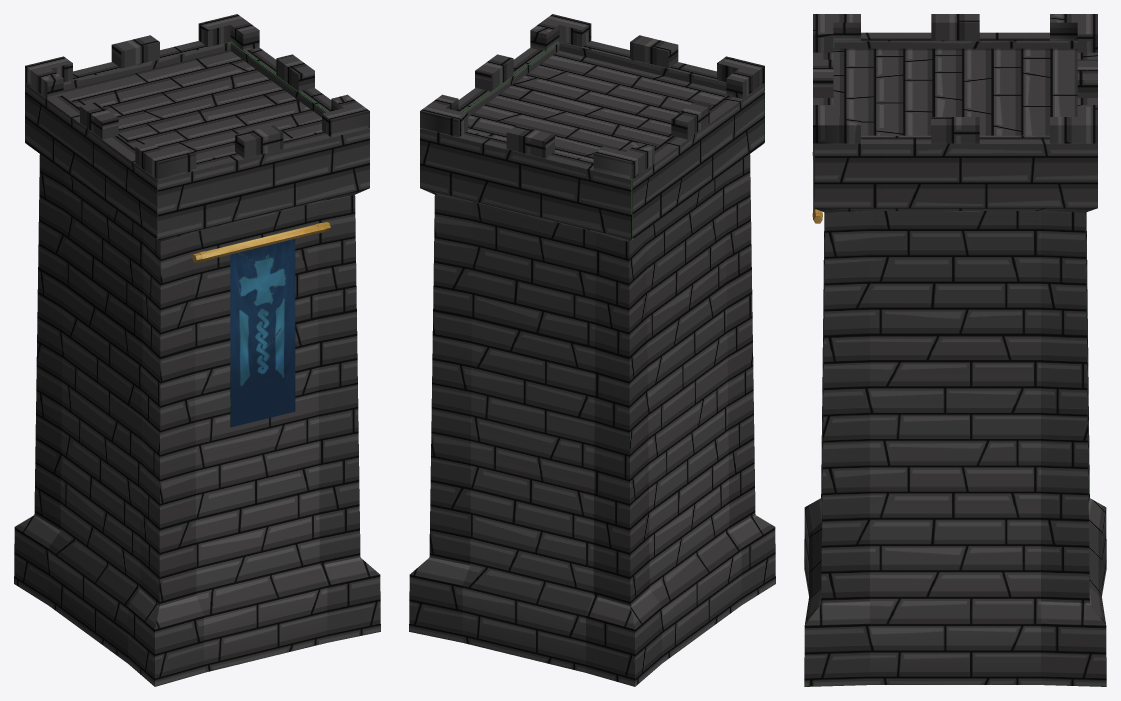
File: FinalBaseTower.FBX
The picture shows the model from 3 angles, left to right: view 1: azimuth 30°, elevation 25°; view 2: azimuth 150°, elevation 25°; view 3: azimuth 270°, elevation 25°; orthographic projection. The views are drawn at different scales.
Visible parts, largest first — view 1: Box001, Cylinder001; view 2: Box001; view 3: Box001.
Boxes of the visible parts, x1,y1,x2,y2 form: Box001: (14,14,380,686); Cylinder001: (192,222,330,427); Box001: (409,14,775,686); Box001: (804,14,1106,686).
Size of the model in its own units: 273 by 599 by 294.
Materials: 2 (2 with a texture image).
